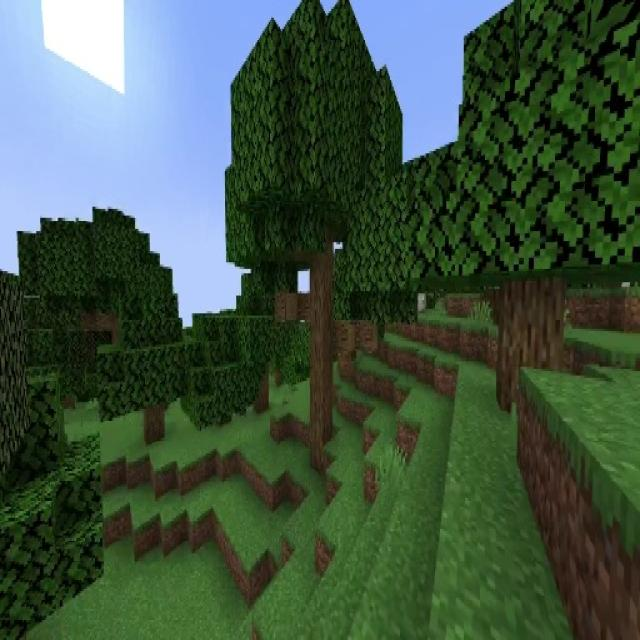oak: (408, 6, 639, 413), (225, 1, 403, 466), (99, 284, 198, 448), (216, 270, 300, 413)
oak_log: (500, 279, 565, 396), (309, 264, 333, 467), (144, 406, 165, 444)
